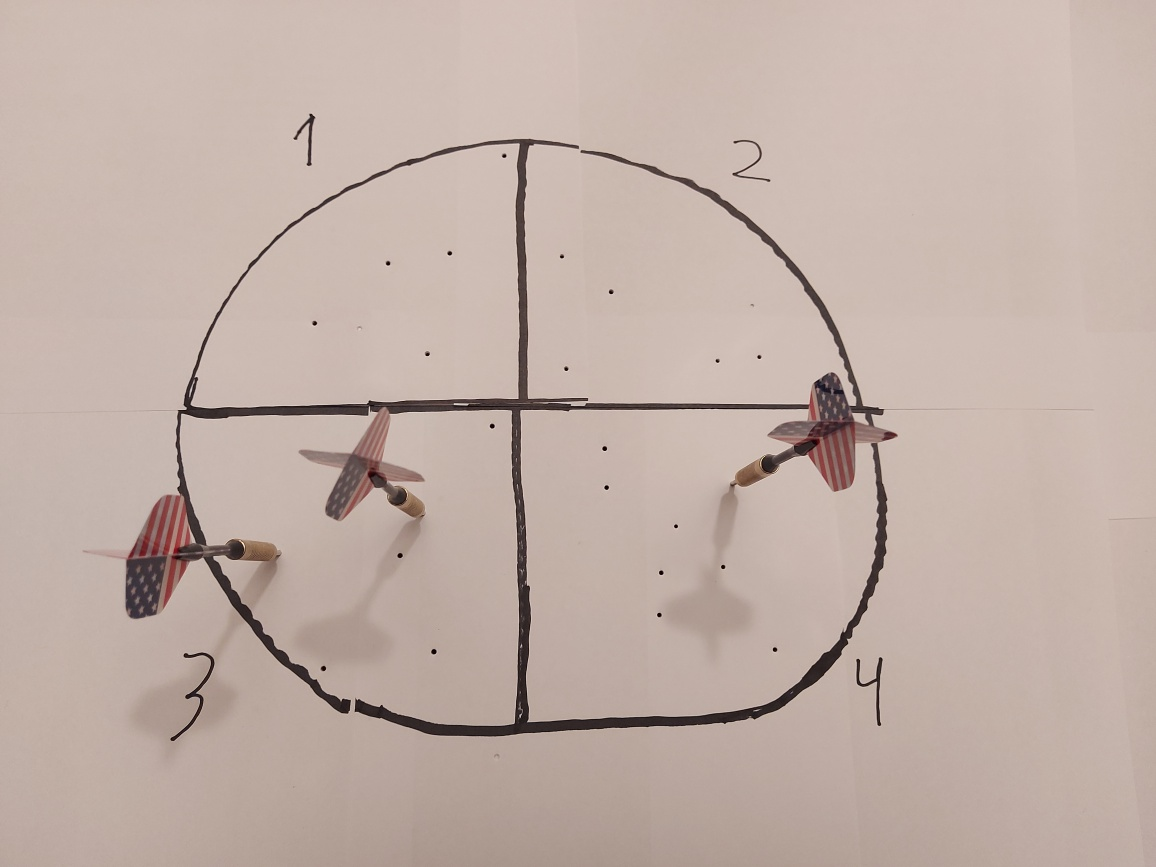Dart: (80, 488, 294, 623), (724, 366, 902, 507), (291, 404, 438, 538)
